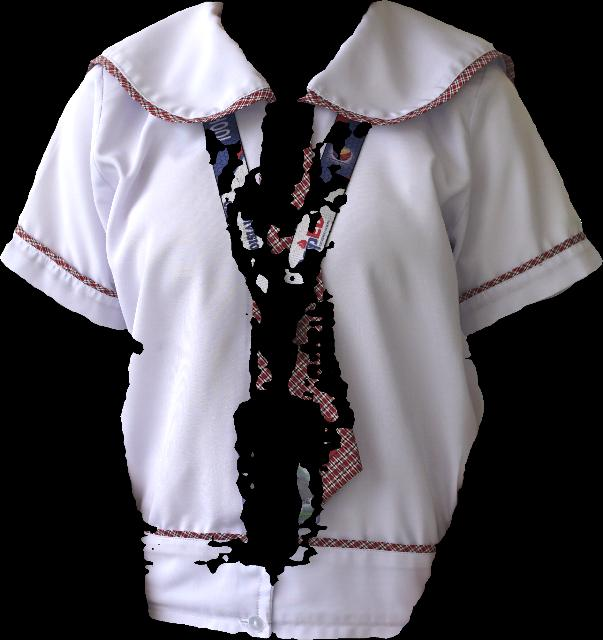pologirl: (1, 0, 602, 639)
